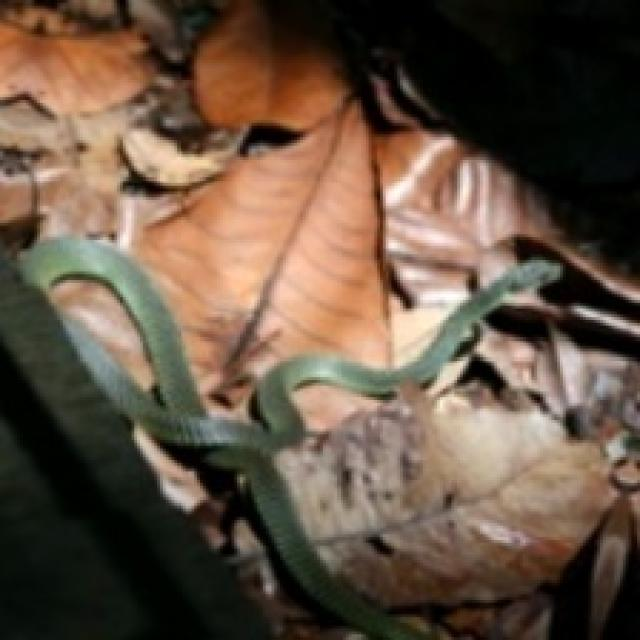paradise tree snake: (21, 238, 558, 640)
